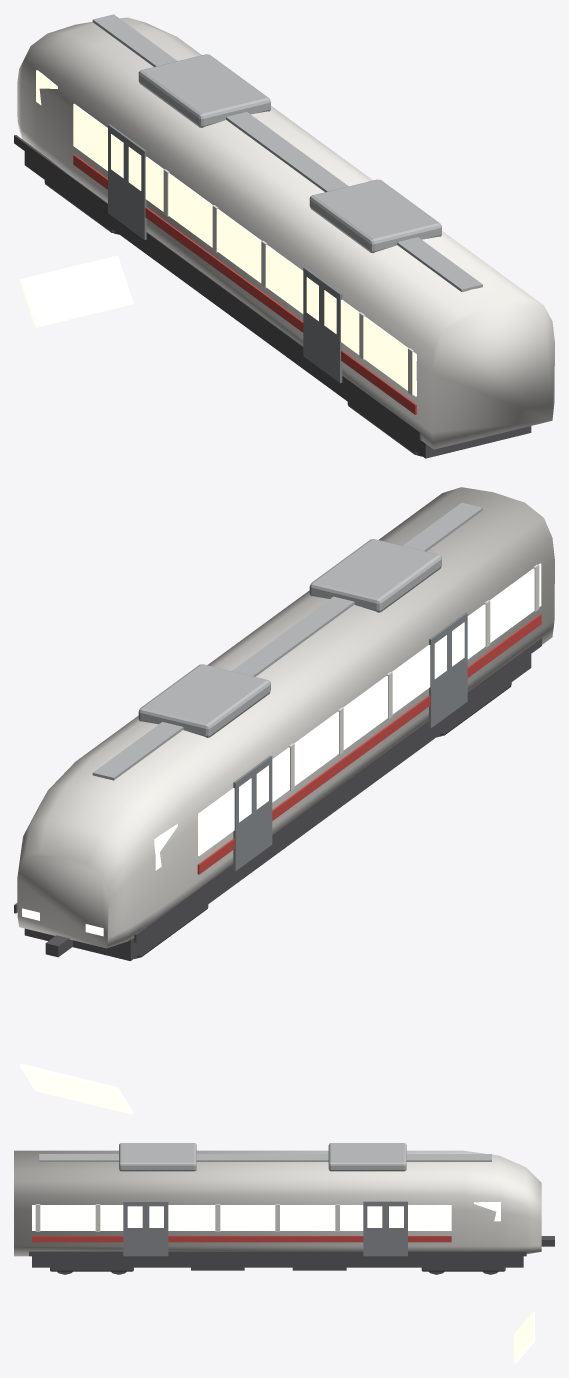
File: train_cab.glb
3 views of the same model, one above another, from view 1: azimuth 30°, elevation 25°; view 2: azimuth 150°, elevation 25°; view 3: azimuth 270°, elevation 25° (orthographic). The views are drawn at different scales.
Visible parts, largest first — view 1: train_cab; view 2: train_cab; view 3: train_cab.
Part boxes in pixels (x1=…): train_cab: x1=14, y1=14, x2=554, y2=458; train_cab: x1=14, y1=487, x2=554, y2=1114; train_cab: x1=14, y1=1143, x2=554, y2=1363.
Bounding box in the file's own units: 3.03 × 7.24 × 18.05.
